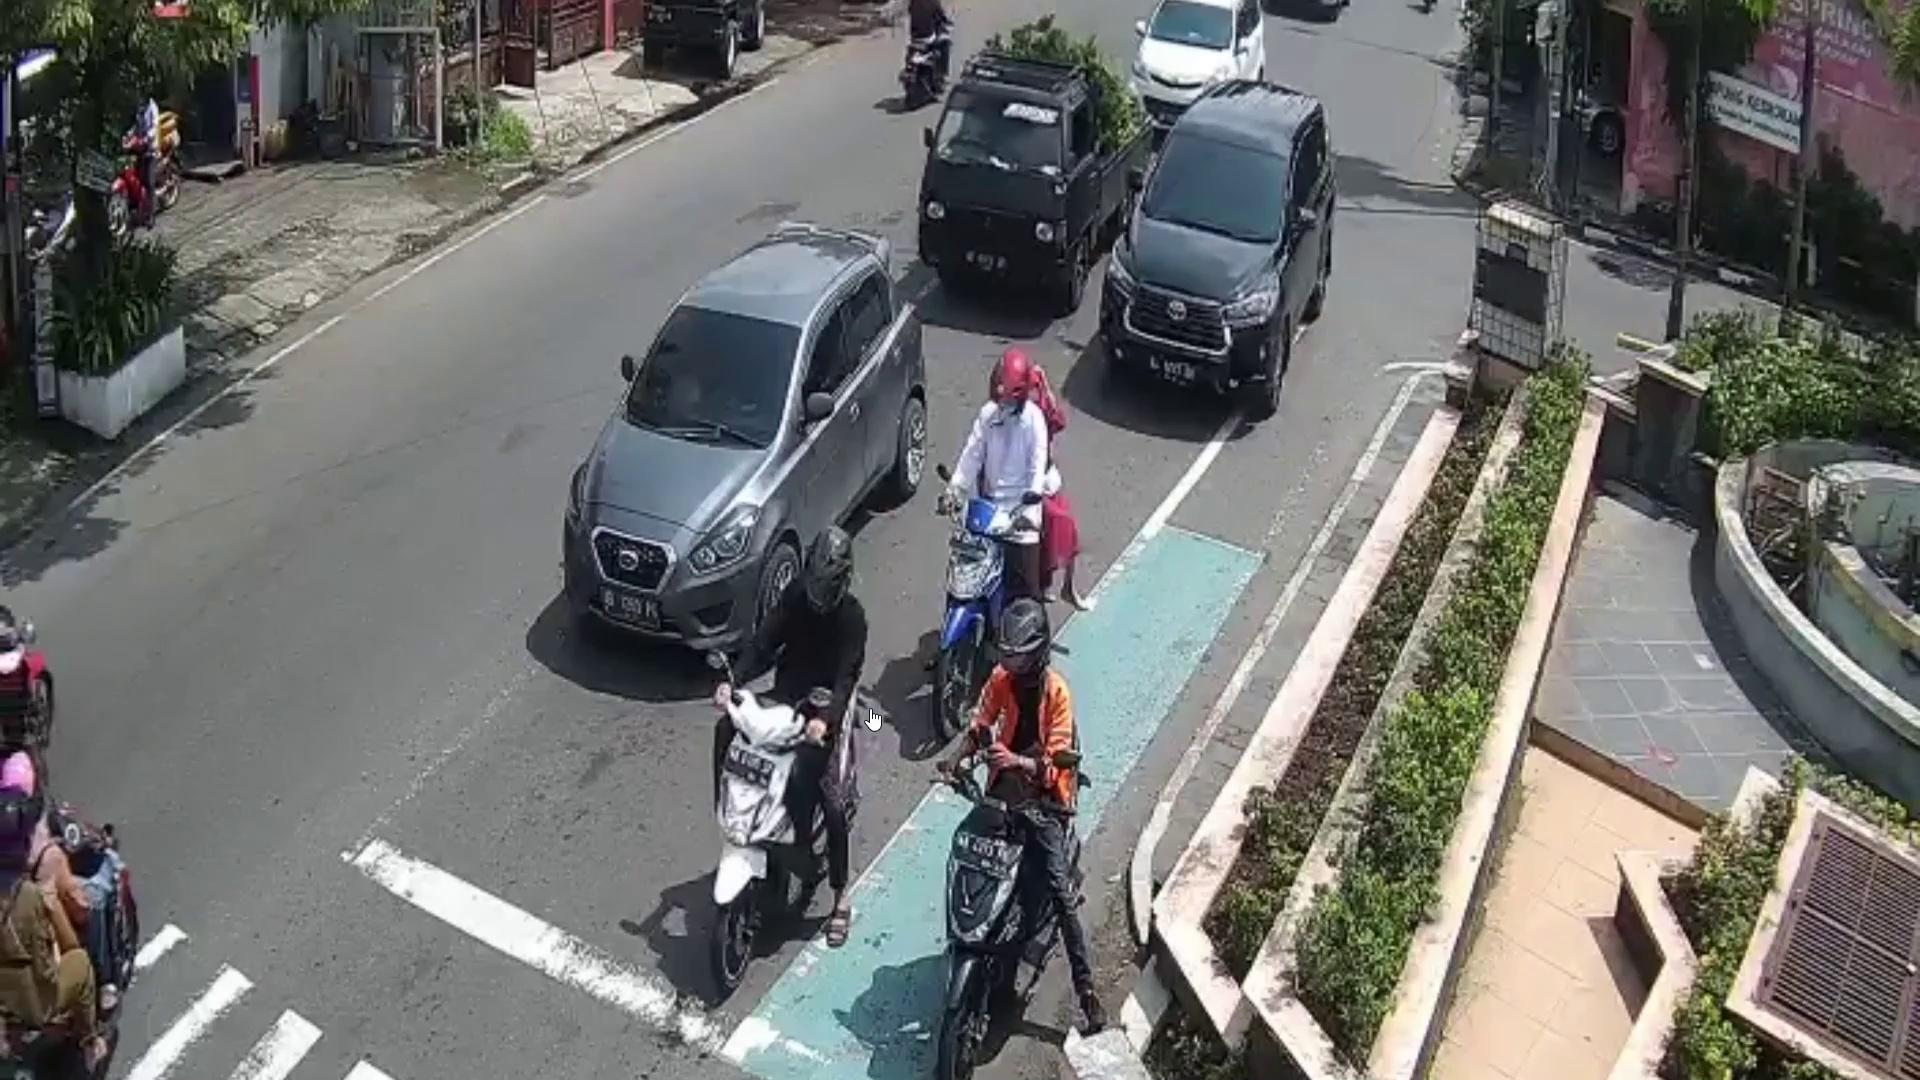car: (562, 222, 926, 663), (1101, 80, 1332, 415), (918, 51, 1150, 316), (1133, 0, 1269, 133)
motorbike: (704, 658, 869, 984), (939, 773, 1080, 1080), (943, 493, 1029, 725)
